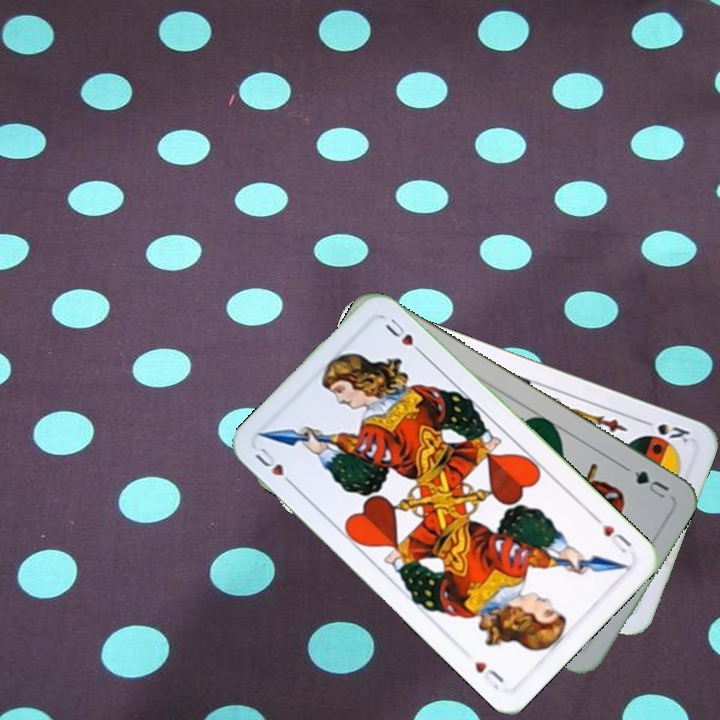GU: (630, 466, 672, 501)
HU: (251, 442, 298, 490), (590, 512, 634, 556)
SK: (637, 415, 694, 446)
